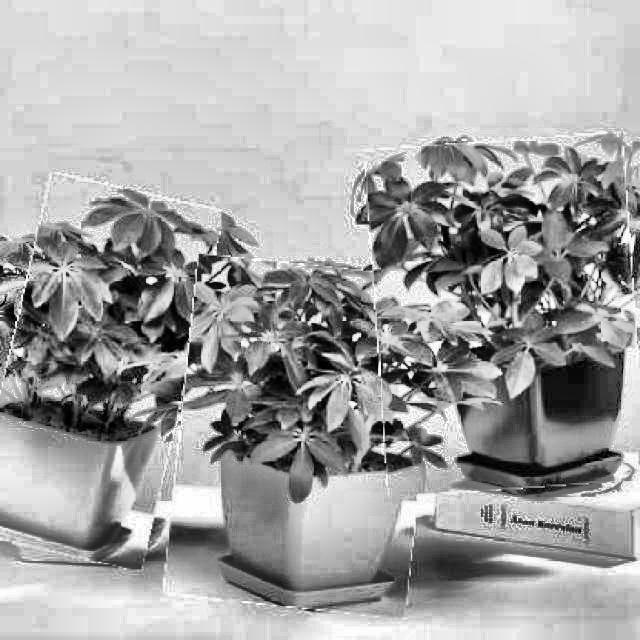plants: (370, 135, 638, 494), (172, 261, 432, 614), (0, 180, 203, 565)
